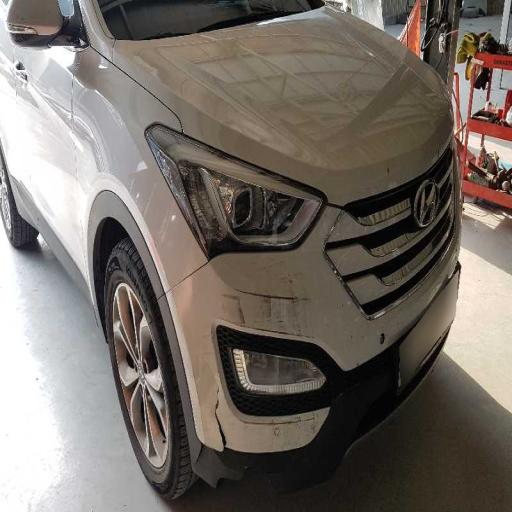scratch: (171, 114, 357, 433)
